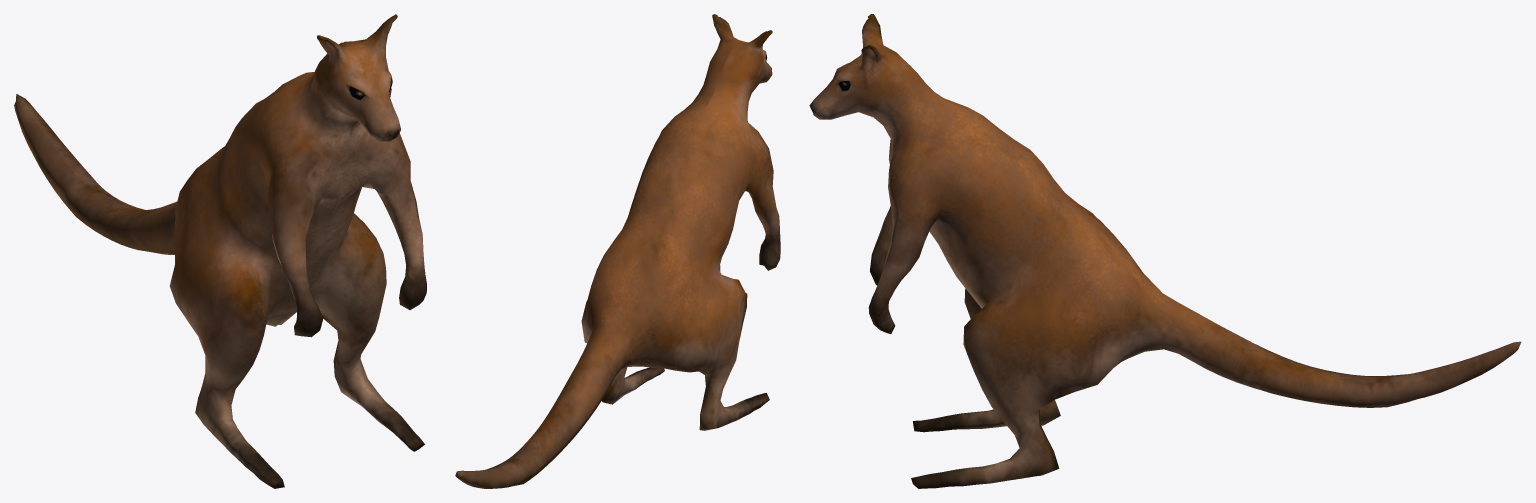
The model's file is kangaroo.gltf.
3 renders of one model, left to right at view 1: azimuth 30°, elevation 25°; view 2: azimuth 150°, elevation 25°; view 3: azimuth 270°, elevation 25°, orthographic. The views are drawn at different scales.
Visible parts, largest first — view 1: mmGroup1; view 2: mmGroup1; view 3: mmGroup1.
Boxes of the visible parts, x1,y1,x2,y2 form: mmGroup1: (14,14,426,488); mmGroup1: (455,14,780,488); mmGroup1: (809,14,1521,488).
Size of the model in its own units: 70.62 by 189 by 286.
Materials: 2 (2 with a texture image).
